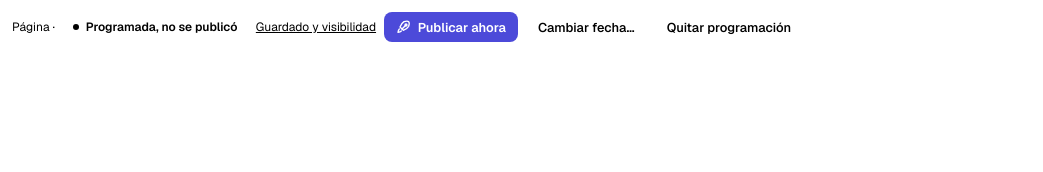
Scenario: VisualPublishControl.svelte — «Programar…» › «Publicar ahora» fallido conserva la fecha y reintenta la escritura atómica
Step 1. Click the button "Publicar ahora" → click(451, 27), box [384,12,518,42]
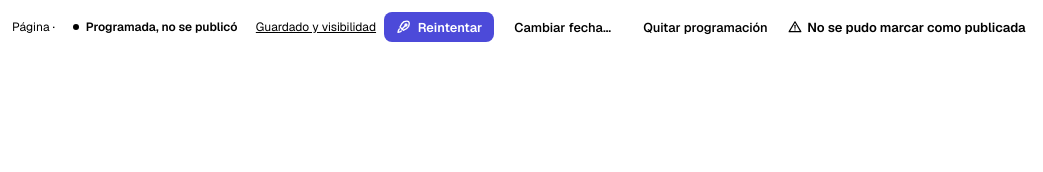
Expected: the text "Programada, no se publicó" is shown, [86,19,238,35]
Expected: the message "No se pudo marcar como publicada" is shown, [788,18,1026,36]
Expected: the button "Reintentar" is shown
Step 2. Click the button "Reintentar" → click(439, 27), box [384,12,494,42]
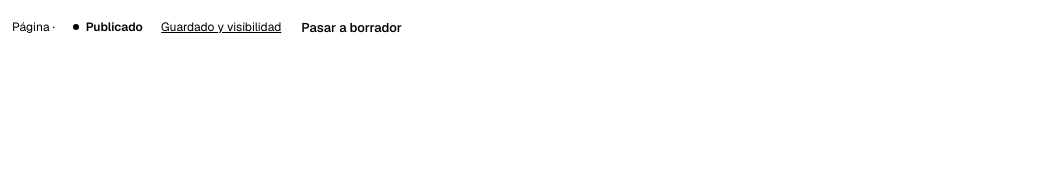
Expected: the text "Publicado" is shown, [63,15,153,39]
